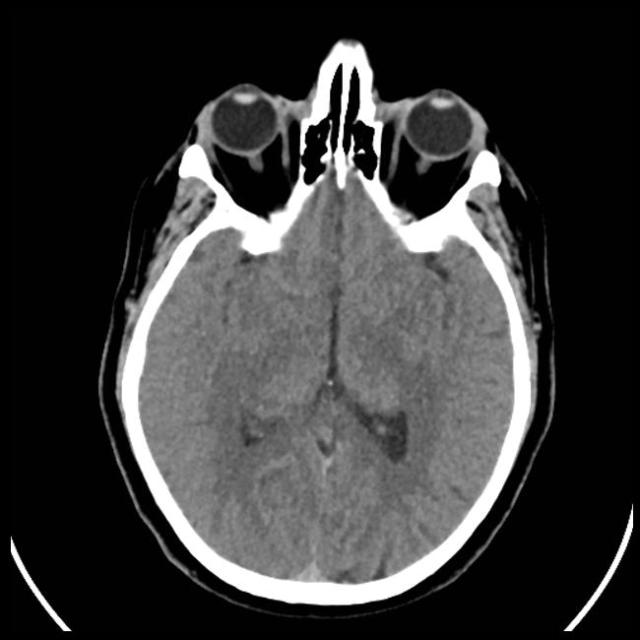lesion: (96, 38, 558, 610)
